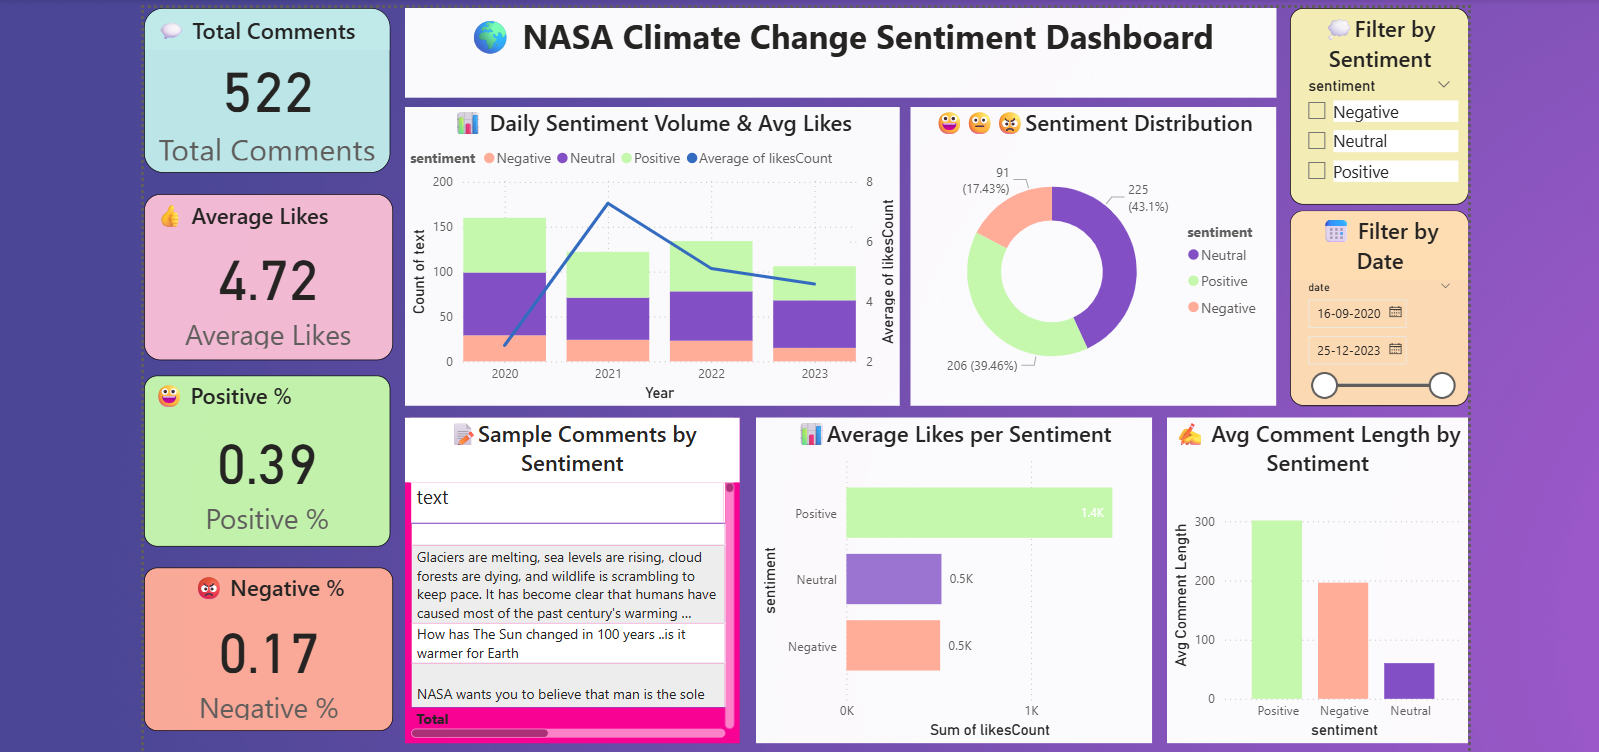

The page's visual inventory and layout, read from the dashboard file:
{"tool":"powerbi","page":{"name":"Page 1","canvas":[1280,720],"ordinal":0},"visuals":[{"type":"textbox","box":[252.2,0,842,87],"z":0},{"type":"donutChart","title":"😀😐😠Sentiment Distribution","fields":{"Y":["CountNonNull(climate_sentiment_data.sentiment)"],"Category":["climate_sentiment_data.sentiment"]},"box":[740.6,95.7,353.6,288.4],"z":1000},{"type":"card","title":"😡 Negative %","fields":{"Values":["climate_sentiment_data.Negative %"]},"box":[0,540.6,240.6,158],"z":2000},{"type":"tableEx","title":"📝Sample Comments by Sentiment","fields":{"Values":["climate_sentiment_data.text","Sum(climate_sentiment_data.likesCount)","climate_sentiment_data.sentiment","Sum(climate_sentiment_data.polarity)"]},"box":[252.2,395.7,323.2,314.5],"z":3000},{"type":"clusteredBarChart","title":"📊Average Likes per Sentiment","fields":{"Category":["climate_sentiment_data.sentiment"],"Y":["Sum(climate_sentiment_data.likesCount)"]},"box":[591.3,395.7,382.6,314.5],"z":4000},{"type":"card","title":"💬 Total Comments","fields":{"Values":["climate_sentiment_data.Total Comments"]},"box":[0,0,237.7,159.4],"z":5000},{"type":"card","title":"👍 Average Likes","fields":{"Values":["climate_sentiment_data.Average Likes"]},"box":[0,179.7,240.6,160.9],"z":6000},{"type":"card","title":"😀 Positive %","fields":{"Values":["climate_sentiment_data.Positive %"]},"box":[0,355.1,237.7,165.2],"z":7000},{"type":"clusteredColumnChart","title":"✍️ Avg Comment Length by Sentiment","fields":{"Category":["climate_sentiment_data.sentiment"],"Y":["climate_sentiment_data.Avg Comment Length"]},"box":[988.4,395.7,291.3,314.5],"z":8000},{"type":"lineStackedColumnComboChart","title":"📊 Daily Sentiment Volume & Avg Likes","fields":{"Category":["climate_sentiment_data.date.Variation.Date Hierarchy.Year","climate_sentiment_data.date.Variation.Date Hierarchy.Quarter","climate_sentiment_data.date.Variation.Date Hierarchy.Month","climate_sentiment_data.date.Variation.Date Hierarchy.Day"],"Y":["CountNonNull(climate_sentiment_data.text)"],"Y2":["Avg(climate_sentiment_data.likesCount)"],"Series":["climate_sentiment_data.sentiment"]},"box":[252.2,95.7,478.3,288.4],"z":9000},{"type":"slicer","title":"💭Filter by Sentiment","fields":{"Values":["climate_sentiment_data.sentiment"]},"box":[1107.2,0,172.5,189.9],"z":10000},{"type":"slicer","title":"📅 Filter by Date","fields":{"Values":["climate_sentiment_data.date"]},"box":[1107.2,195.7,172.5,188.4],"z":11000}]}

Visuals, with their boxes in screenshot pixels (x1, y1, x2, y2):
textbox: [left=402, top=4, right=1271, bottom=94]
"😀😐😠Sentiment Distribution" donutChart: [left=906, top=103, right=1271, bottom=401]
"😡 Negative %" card: [left=142, top=562, right=390, bottom=725]
"📝Sample Comments by Sentiment" tableEx: [left=402, top=413, right=736, bottom=737]
"📊Average Likes per Sentiment" clusteredBarChart: [left=752, top=413, right=1147, bottom=737]
"💬 Total Comments" card: [left=142, top=4, right=387, bottom=169]
"👍 Average Likes" card: [left=142, top=190, right=390, bottom=356]
"😀 Positive %" card: [left=142, top=371, right=387, bottom=541]
"✍️ Avg Comment Length by Sentiment" clusteredColumnChart: [left=1162, top=413, right=1463, bottom=737]
"📊 Daily Sentiment Volume & Avg Likes" lineStackedColumnComboChart: [left=402, top=103, right=896, bottom=401]
"💭Filter by Sentiment" slicer: [left=1285, top=4, right=1463, bottom=200]
"📅 Filter by Date" slicer: [left=1285, top=206, right=1463, bottom=401]
